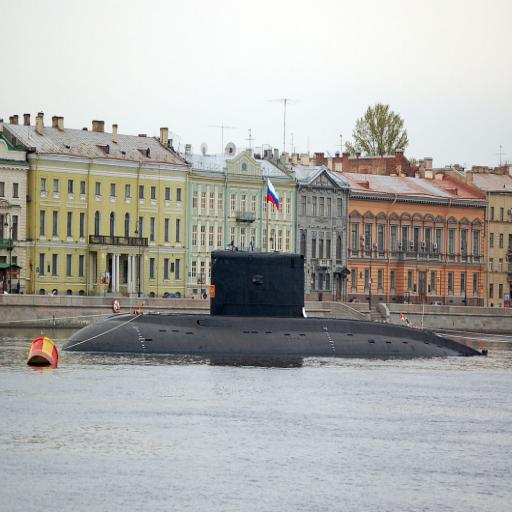submarine: (58, 251, 487, 358)
